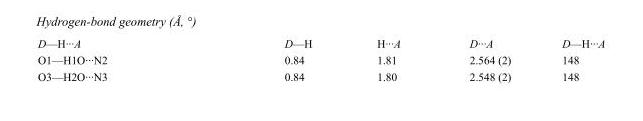table: (37, 36, 604, 82)
table column: (37, 36, 195, 82), (195, 36, 343, 82), (434, 36, 535, 82), (343, 36, 434, 82), (535, 36, 604, 82)
table row: (37, 51, 604, 67), (37, 36, 604, 51), (37, 67, 604, 82)
